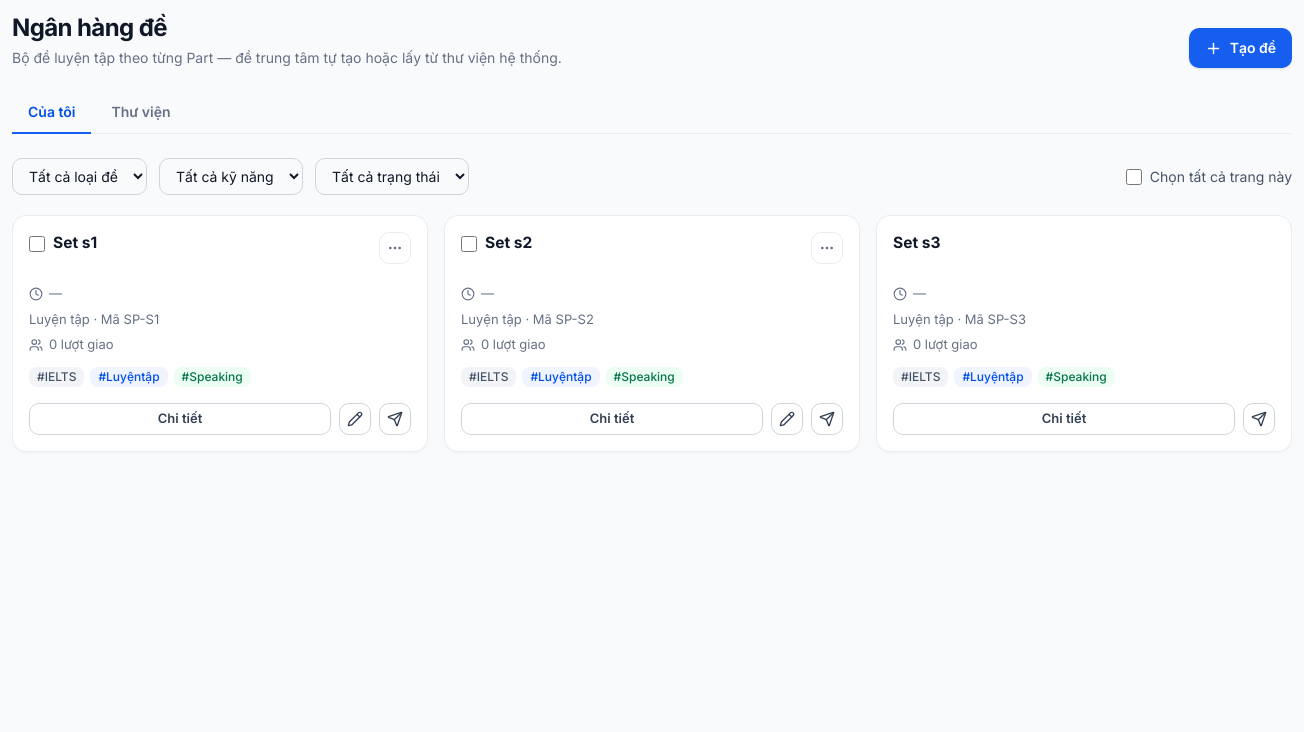
BanksPage lifecycle actions › selects every manageable set on the page at once
This screenshot has width=1304, height=732.
Expected: the element with test id "bank-card-s1" is shown, x1=12 y1=215 x2=428 y2=452
Step 1. Click the checkbox with test id "bank-select-page" → (1134, 176), box x1=1126 y1=168 x2=1142 y2=184
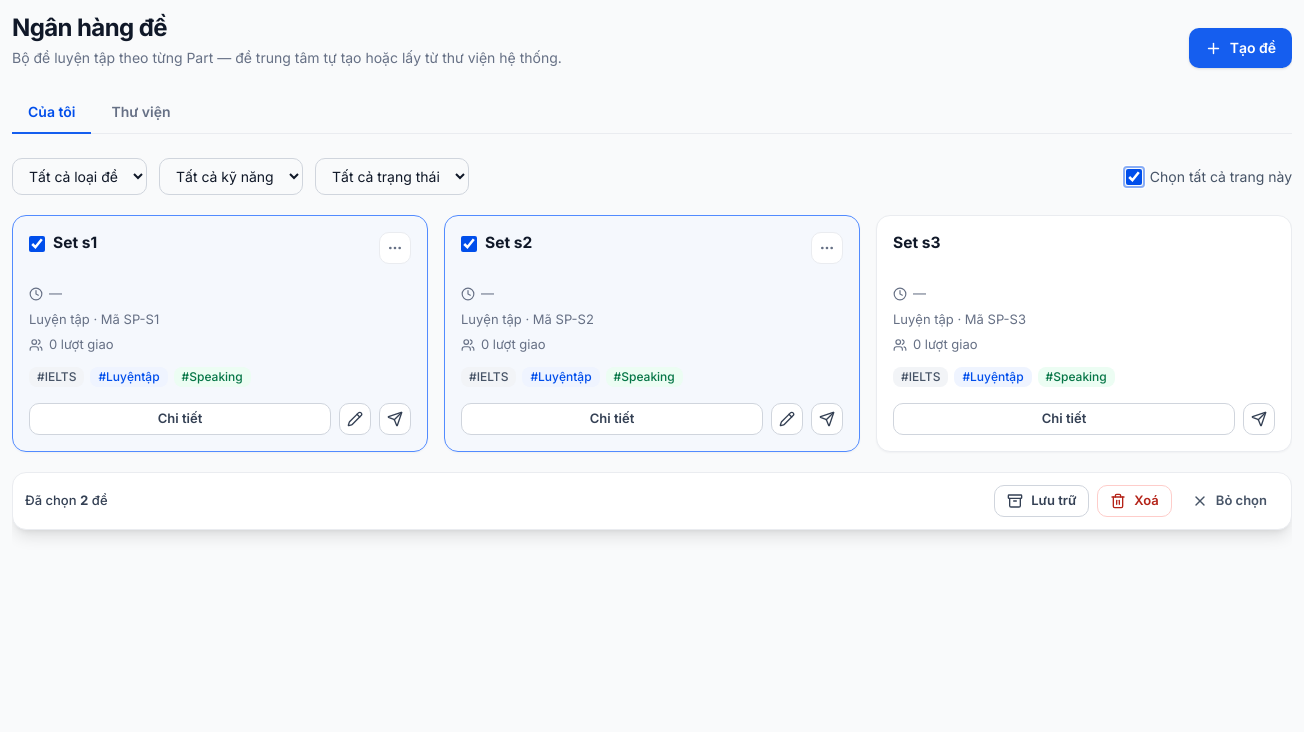
Result: the checkbox with test id "bank-select-s1" is checked at x1=29 y1=236 x2=45 y2=252
Result: the checkbox with test id "bank-select-s2" is checked at x1=461 y1=236 x2=477 y2=252
Result: the element with test id "set-bulk-bar" shows "Đã chọn 2 đề" at x1=12 y1=472 x2=1292 y2=530
